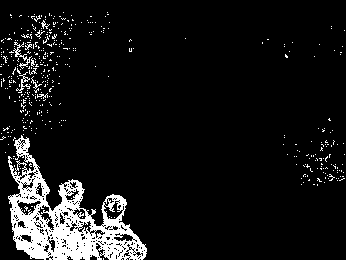person: (6, 179, 53, 259), (95, 191, 148, 258), (54, 179, 97, 259), (5, 136, 54, 196)
